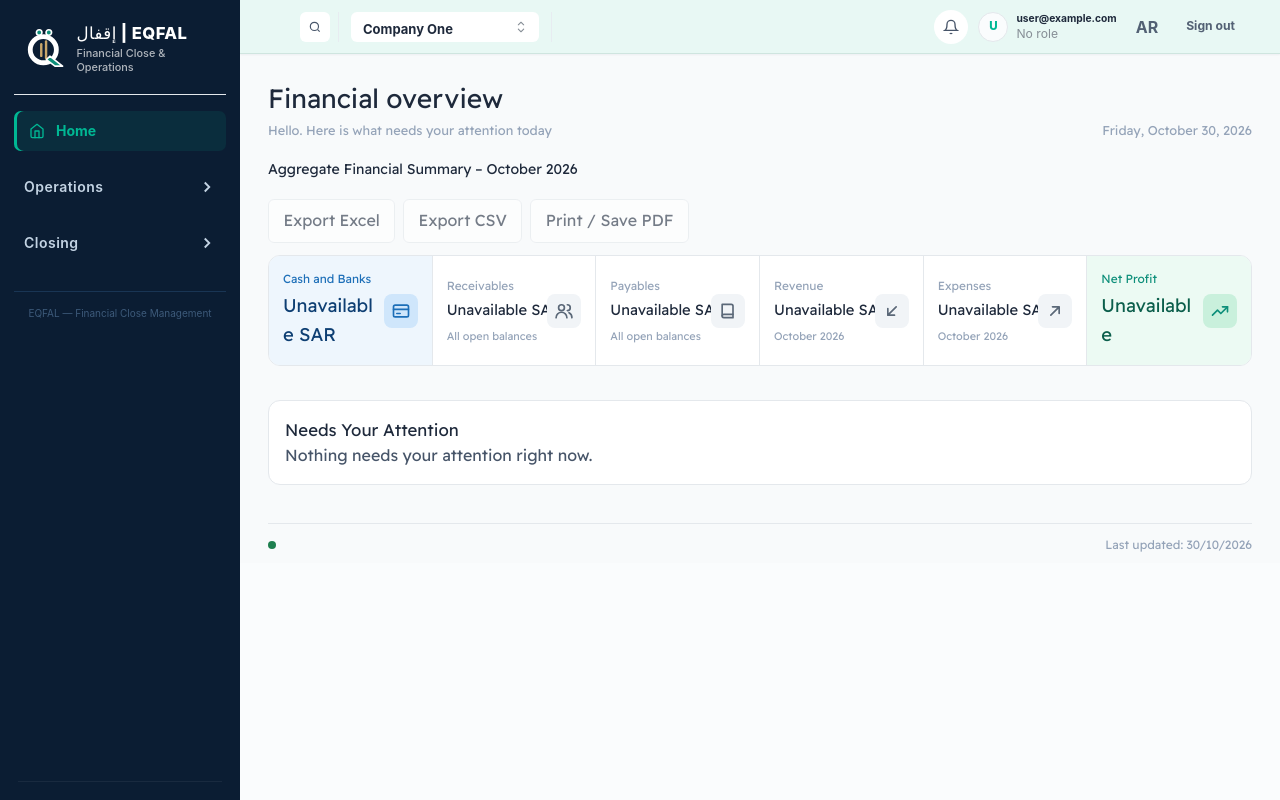
Scenario: authenticated application shell › navigates among capability-visible frontend workspaces
expect the heading "Financial overview" is shown: met, box [268,82,503,115]
expect the text "إقفال" is shown: met, box [76,23,117,43]
Click the button "Closing" at [120, 243], box [14,223,226,263]
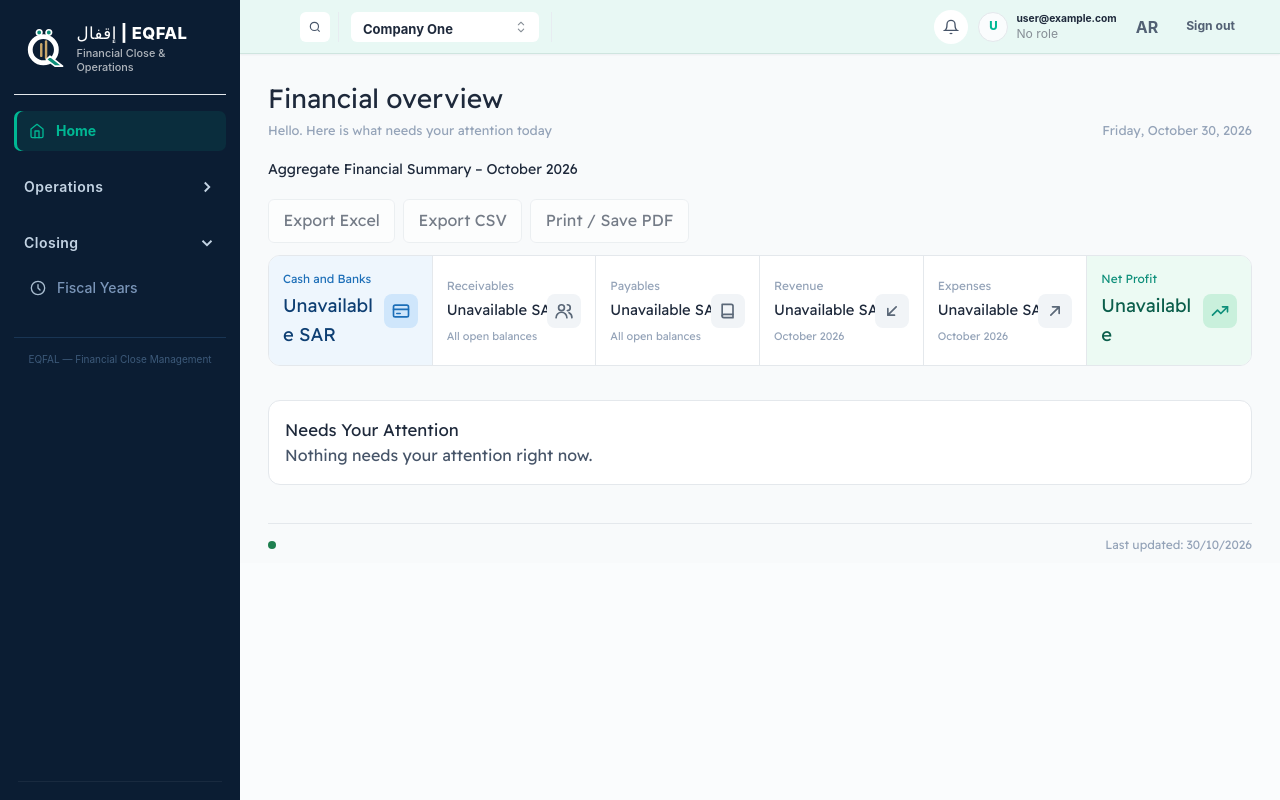
Click the button "Operations" at [120, 187], box [14,167,226,207]
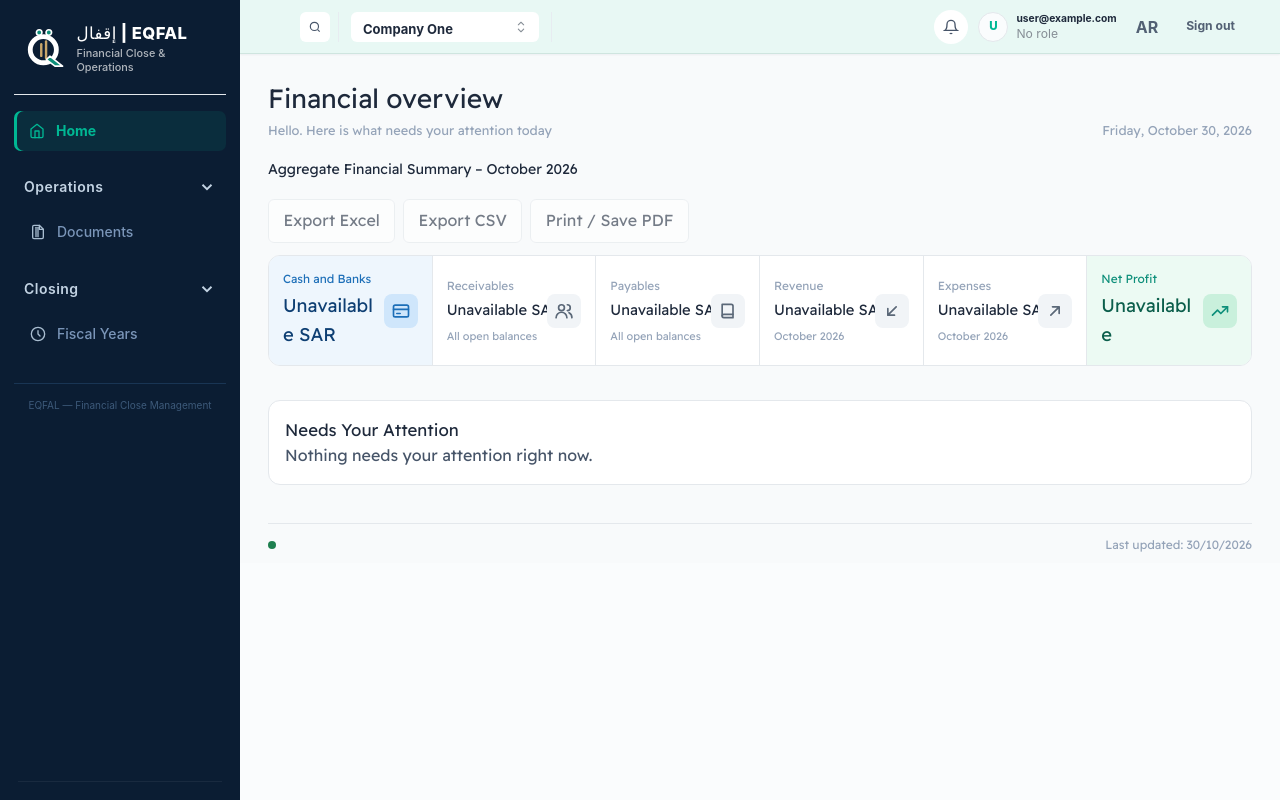
Click the button "Fiscal Years" at [120, 334], box [14,313,226,355]
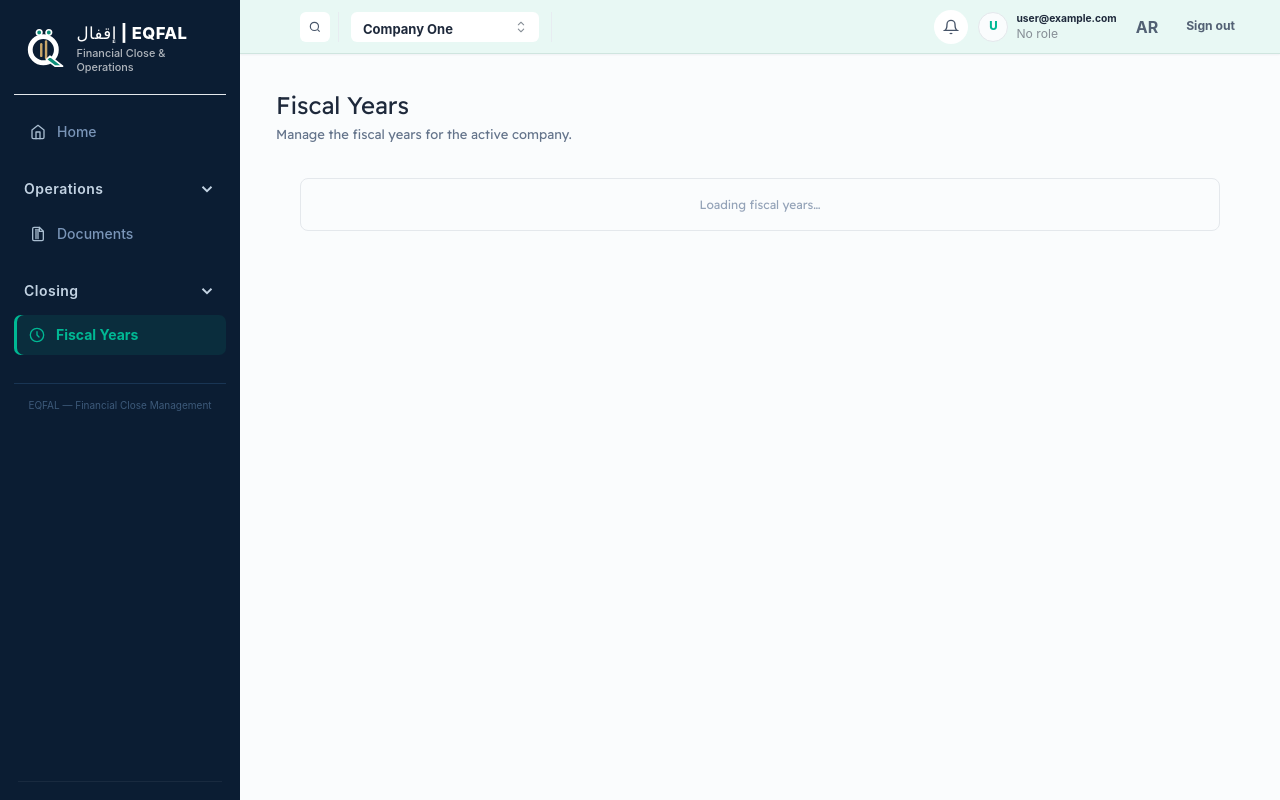
expect the button "Fiscal Years" is marked as current: met, box [14,315,226,355]
Click the button "Documents" at [120, 234], box [14,213,226,255]
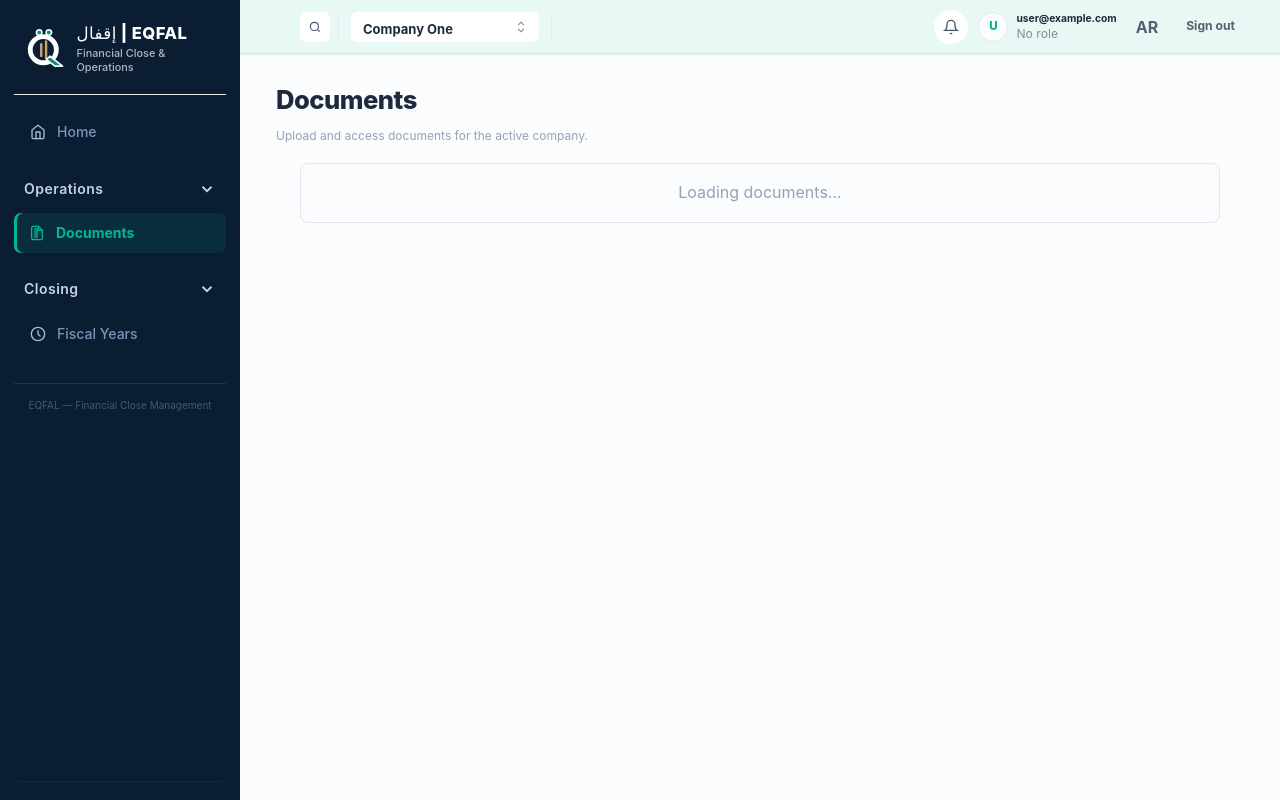
expect the button "Documents" is marked as current: met, box [14,213,226,253]
Click the button "Home" at [120, 132], box [14,111,226,153]
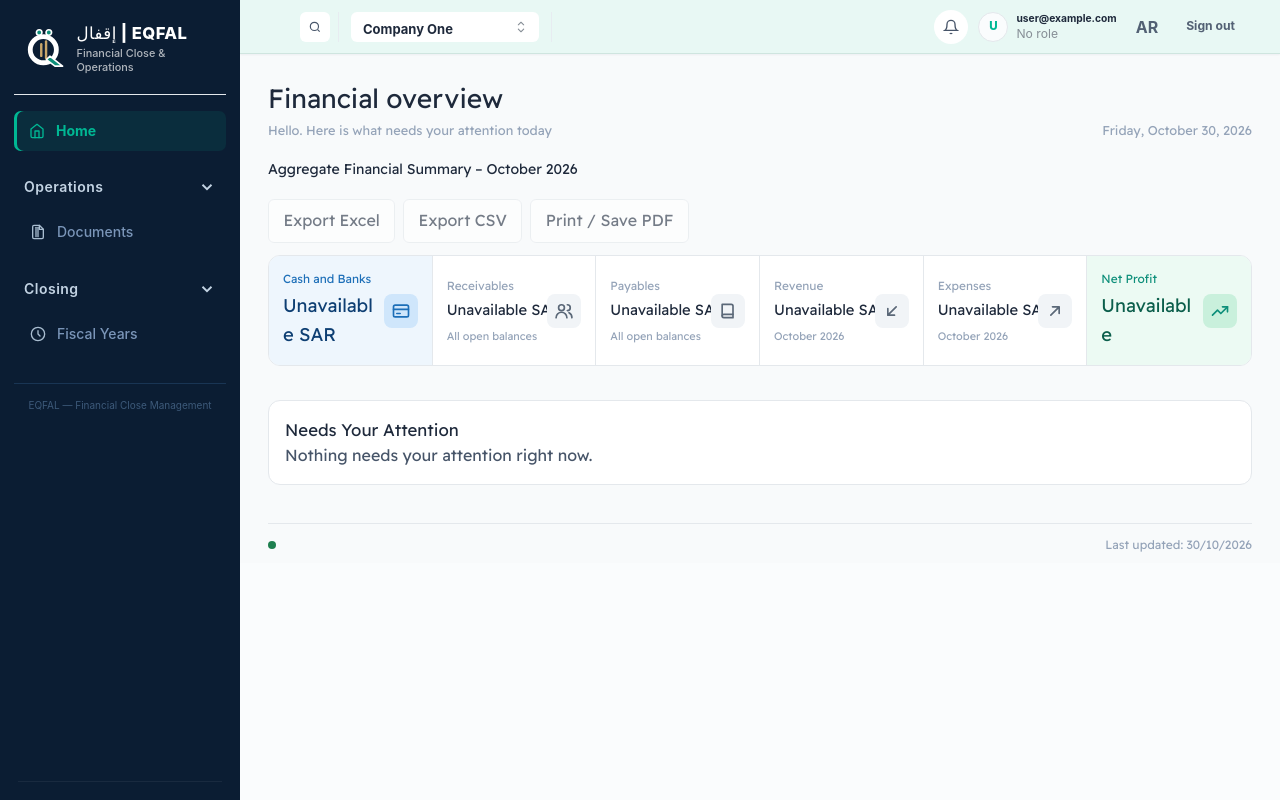
expect the heading "Financial overview" is shown: met, box [268,82,503,115]
